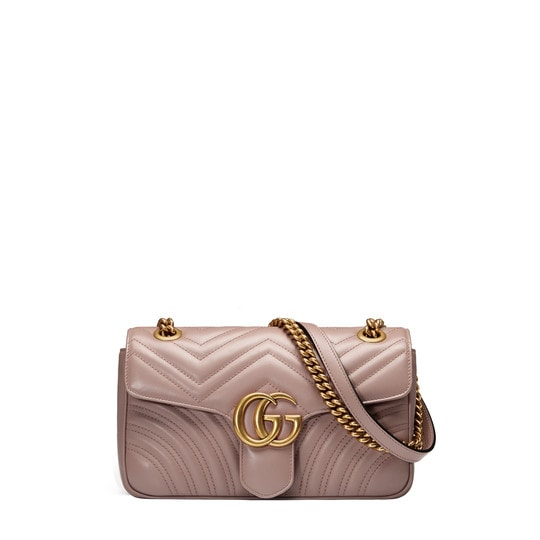Gucci: (124, 306, 426, 504), (140, 340, 311, 392), (225, 381, 327, 447)
